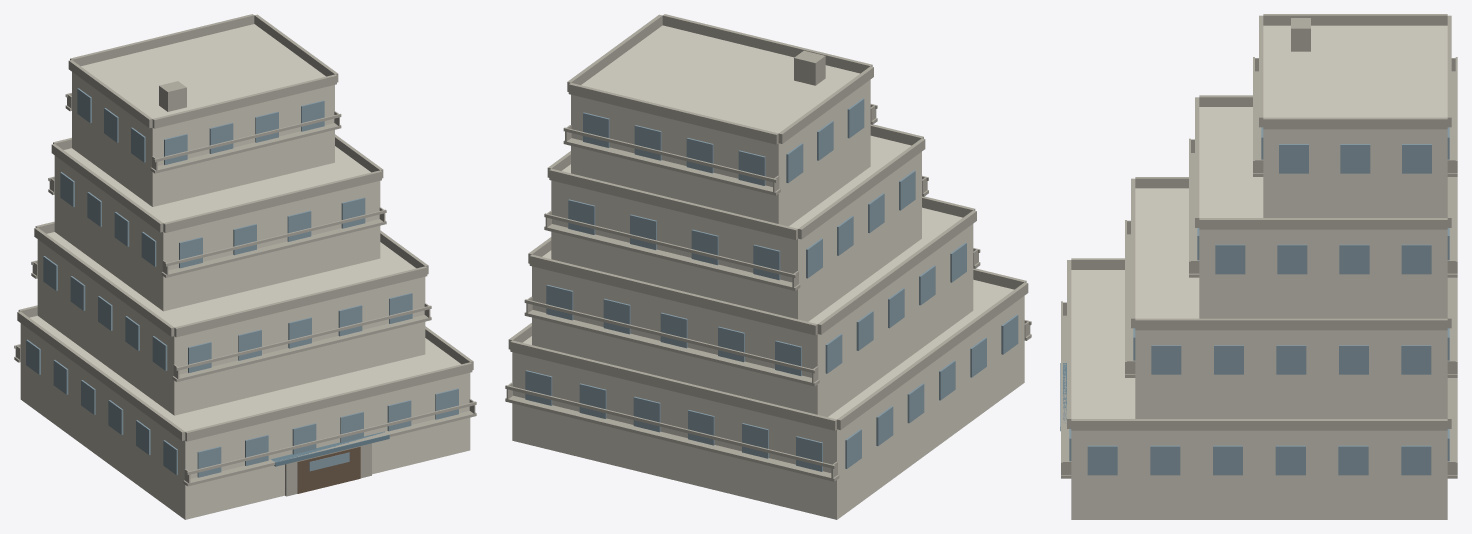
Rendered from residential_3x3_terraces.glb.
The picture shows the model from 3 angles, left to right: view 1: azimuth 30°, elevation 25°; view 2: azimuth 150°, elevation 25°; view 3: azimuth 270°, elevation 25°; orthographic projection. The views are drawn at different scales.
Parts seen in each view (by area): view 1: residential_3x3_terraces_0; view 2: residential_3x3_terraces_0; view 3: residential_3x3_terraces_0.
Part boxes in pixels (box(x1,y1,x2,y2)): residential_3x3_terraces_0: box(14, 14, 476, 519); residential_3x3_terraces_0: box(505, 14, 1031, 519); residential_3x3_terraces_0: box(1060, 14, 1457, 519).
Bounding box in the file's own units: 23 × 25.5 × 23.75.
